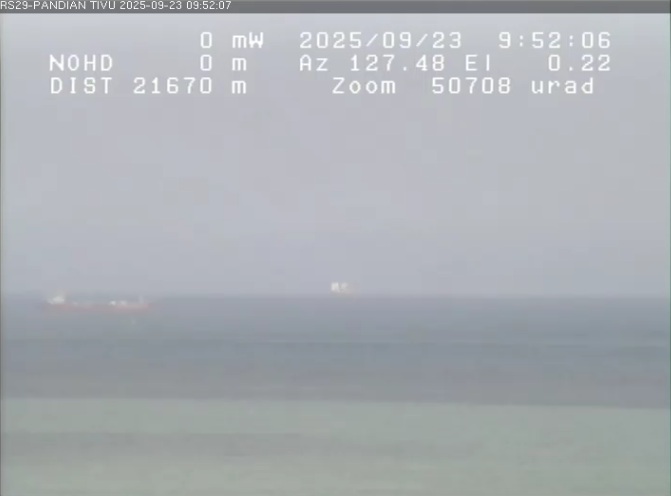CARGO_SHIPS: (24, 277, 165, 317)
